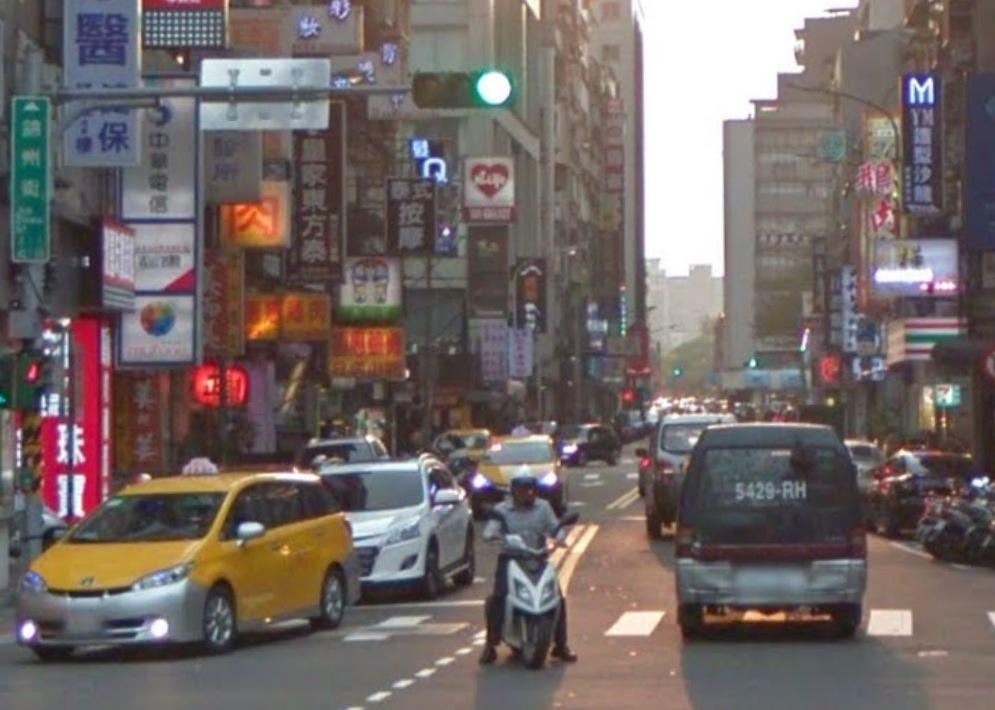car: (14, 466, 355, 658), (676, 413, 869, 638), (309, 448, 484, 599), (642, 401, 746, 541), (874, 440, 979, 543), (475, 428, 564, 513)
green_traffic_light: (408, 71, 516, 109)
motorcycle: (482, 476, 582, 673)
